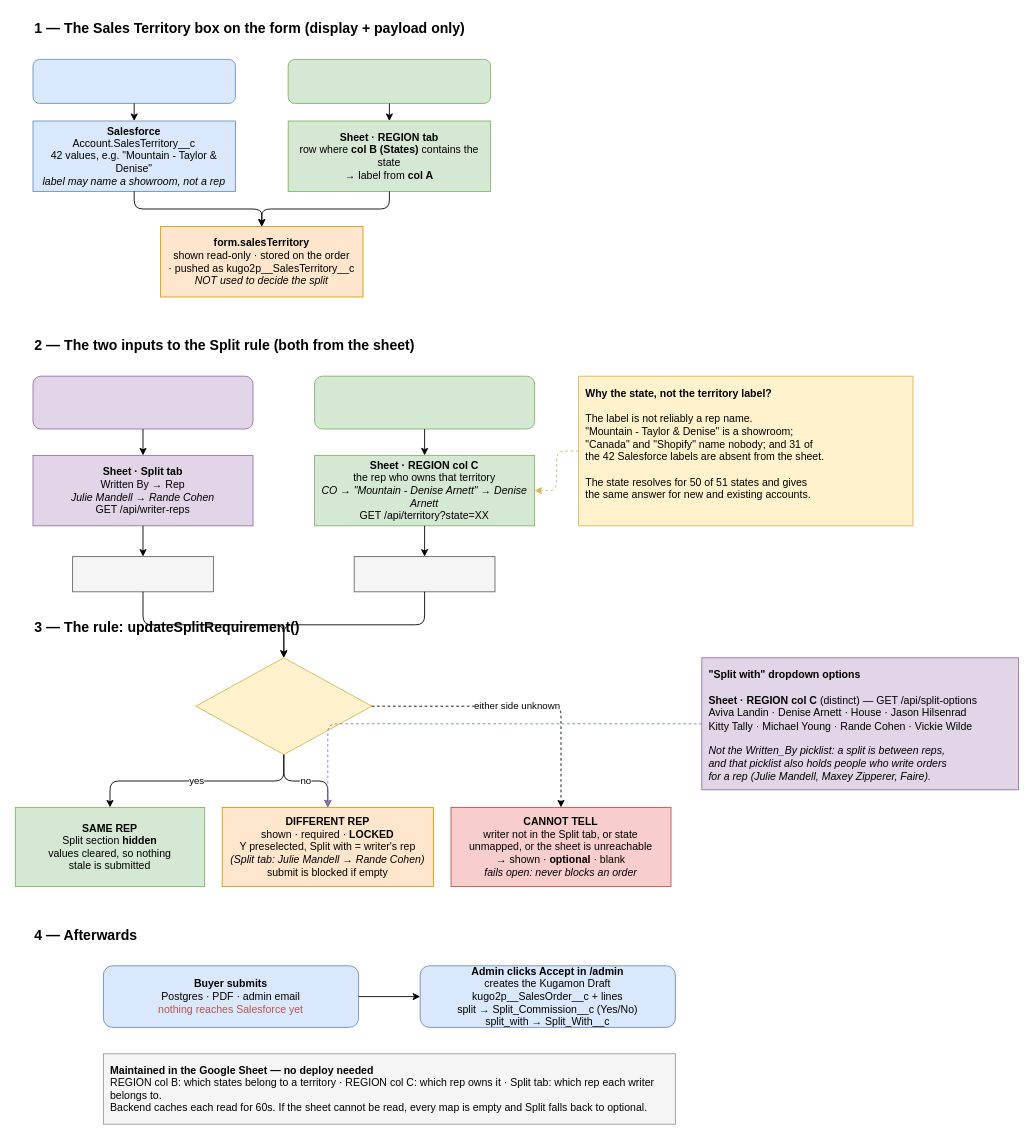
This 1034x1140 diagram has some shape labels left out. Here are the shapes that lost their labels. From the top down, the centre of each, then its label:
point (133, 81): EXISTING account rep looks the store up
point (389, 81): NEW account Ship To "City, ST" → state code
point (142, 402): Written By chosen in Internal Use Salesforce Written_By__c picklist
point (424, 402): Ship To state code for EVERY account — new and existing
point (142, 574): WRITER'S REP
point (424, 574): TERRITORY'S REP
point (283, 706): Writer's rep = Territory's rep ?
